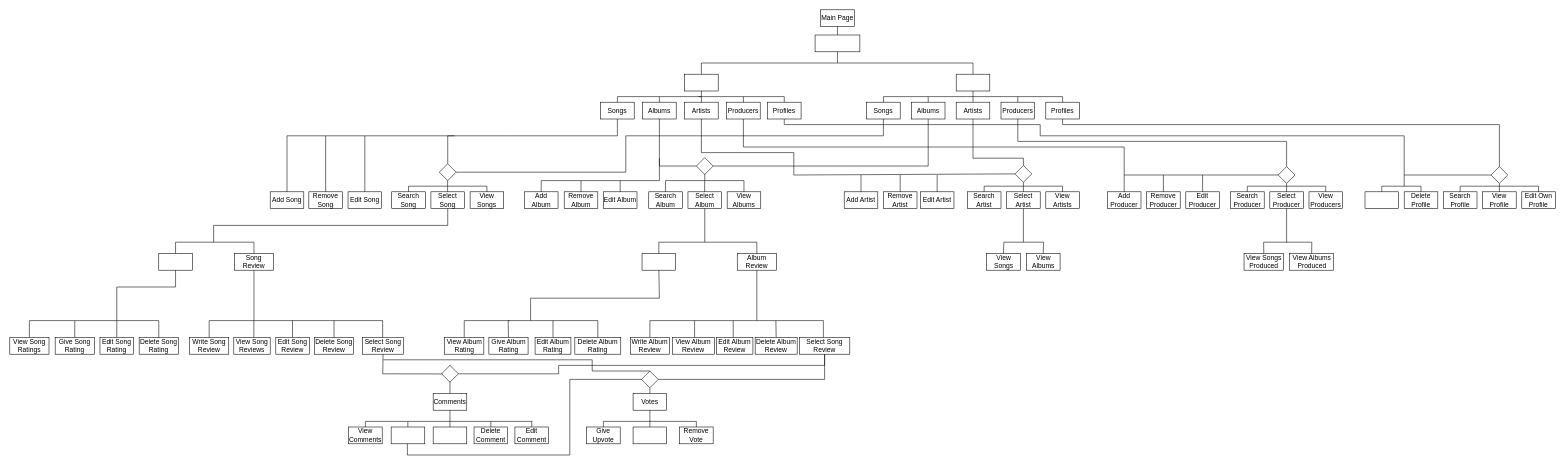
The diagram is 1565 pixels wide and 465 high, and some of its shapes have lost their labels. The shapes that lost their labels are listed below. From the top down, each one's centre as x and y in pixels, then its label:
At point 837,43: "Authentication".
At point 701,82: "Admin".
At point 973,82: "Client".
At point 1381,200: "Edit Client Profile".
At point 175,261: "Song Rating".
At point 658,261: "Album Rating".
At point 408,435: "Select Comment".
At point 450,435: "Write Comment".
At point 650,435: "Give Downvote".
